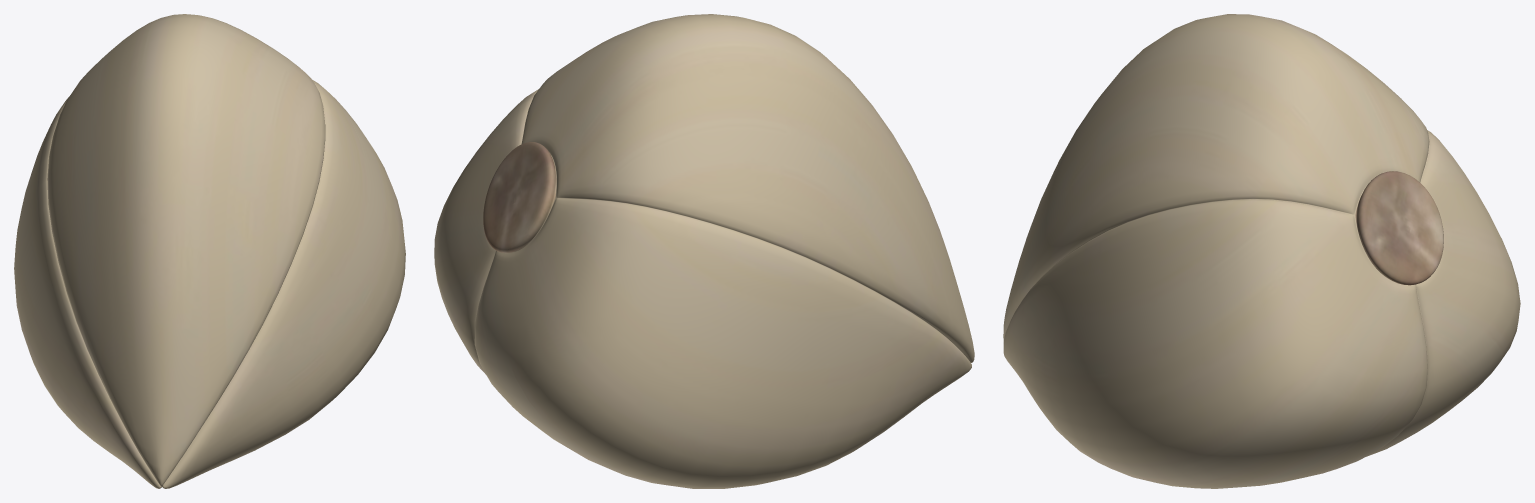
The model's file is GrainBuckwheat019.obj.
3 renders of one model, left to right at view 1: azimuth 30°, elevation 25°; view 2: azimuth 150°, elevation 25°; view 3: azimuth 270°, elevation 25°, orthographic. The views are drawn at different scales.
Parts seen in each view (by area): view 1: GrainBuckwheat019; view 2: GrainBuckwheat019; view 3: GrainBuckwheat019.
Part boxes in pixels (x1,y1,x2,y2): GrainBuckwheat019: [14, 14, 405, 488]; GrainBuckwheat019: [434, 14, 974, 488]; GrainBuckwheat019: [1003, 14, 1520, 488].
Size of the model in its own units: 0.0267 by 0.0269 by 0.0289.
1 material, 1 textured.
